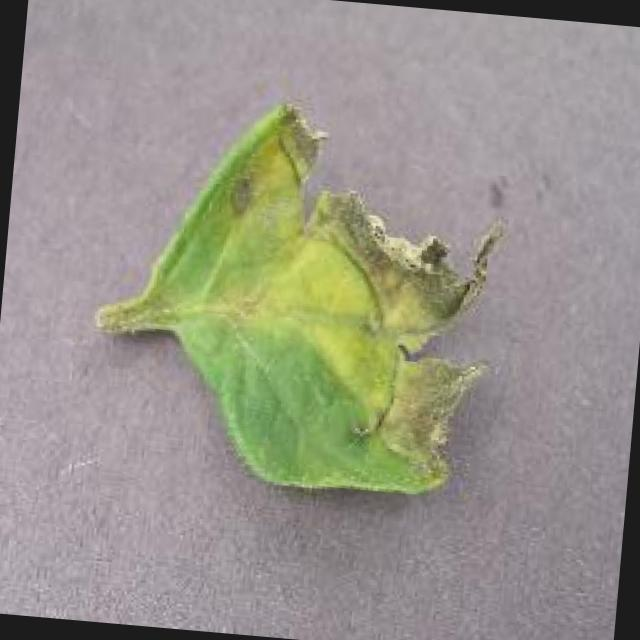leaf blight: (92, 100, 499, 494)
